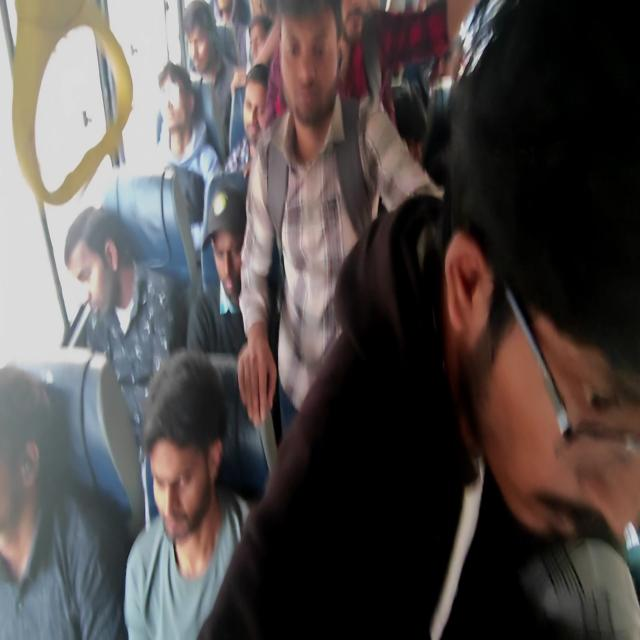person: (243, 5, 442, 433), (473, 276, 636, 555), (1, 362, 131, 638), (156, 67, 222, 247), (142, 349, 228, 462), (272, 1, 344, 121), (64, 205, 136, 324), (0, 368, 55, 475), (227, 59, 272, 174), (202, 207, 251, 305), (159, 61, 193, 102), (248, 13, 272, 68), (340, 0, 372, 37), (189, 34, 215, 69), (214, 0, 235, 22), (250, 0, 268, 19), (156, 109, 164, 144)
